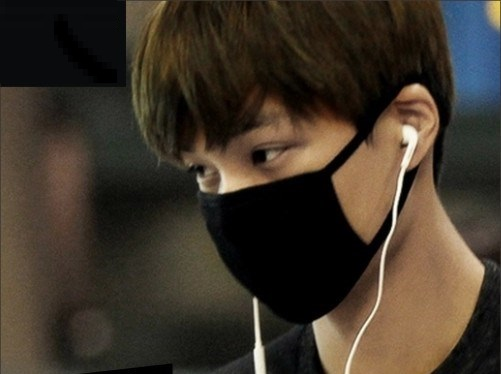face_mask: (183, 59, 391, 326)
